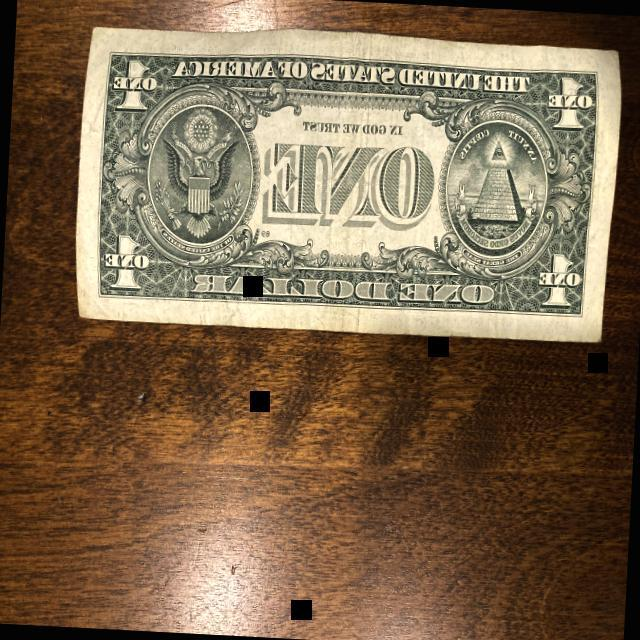one: (70, 21, 625, 350)
